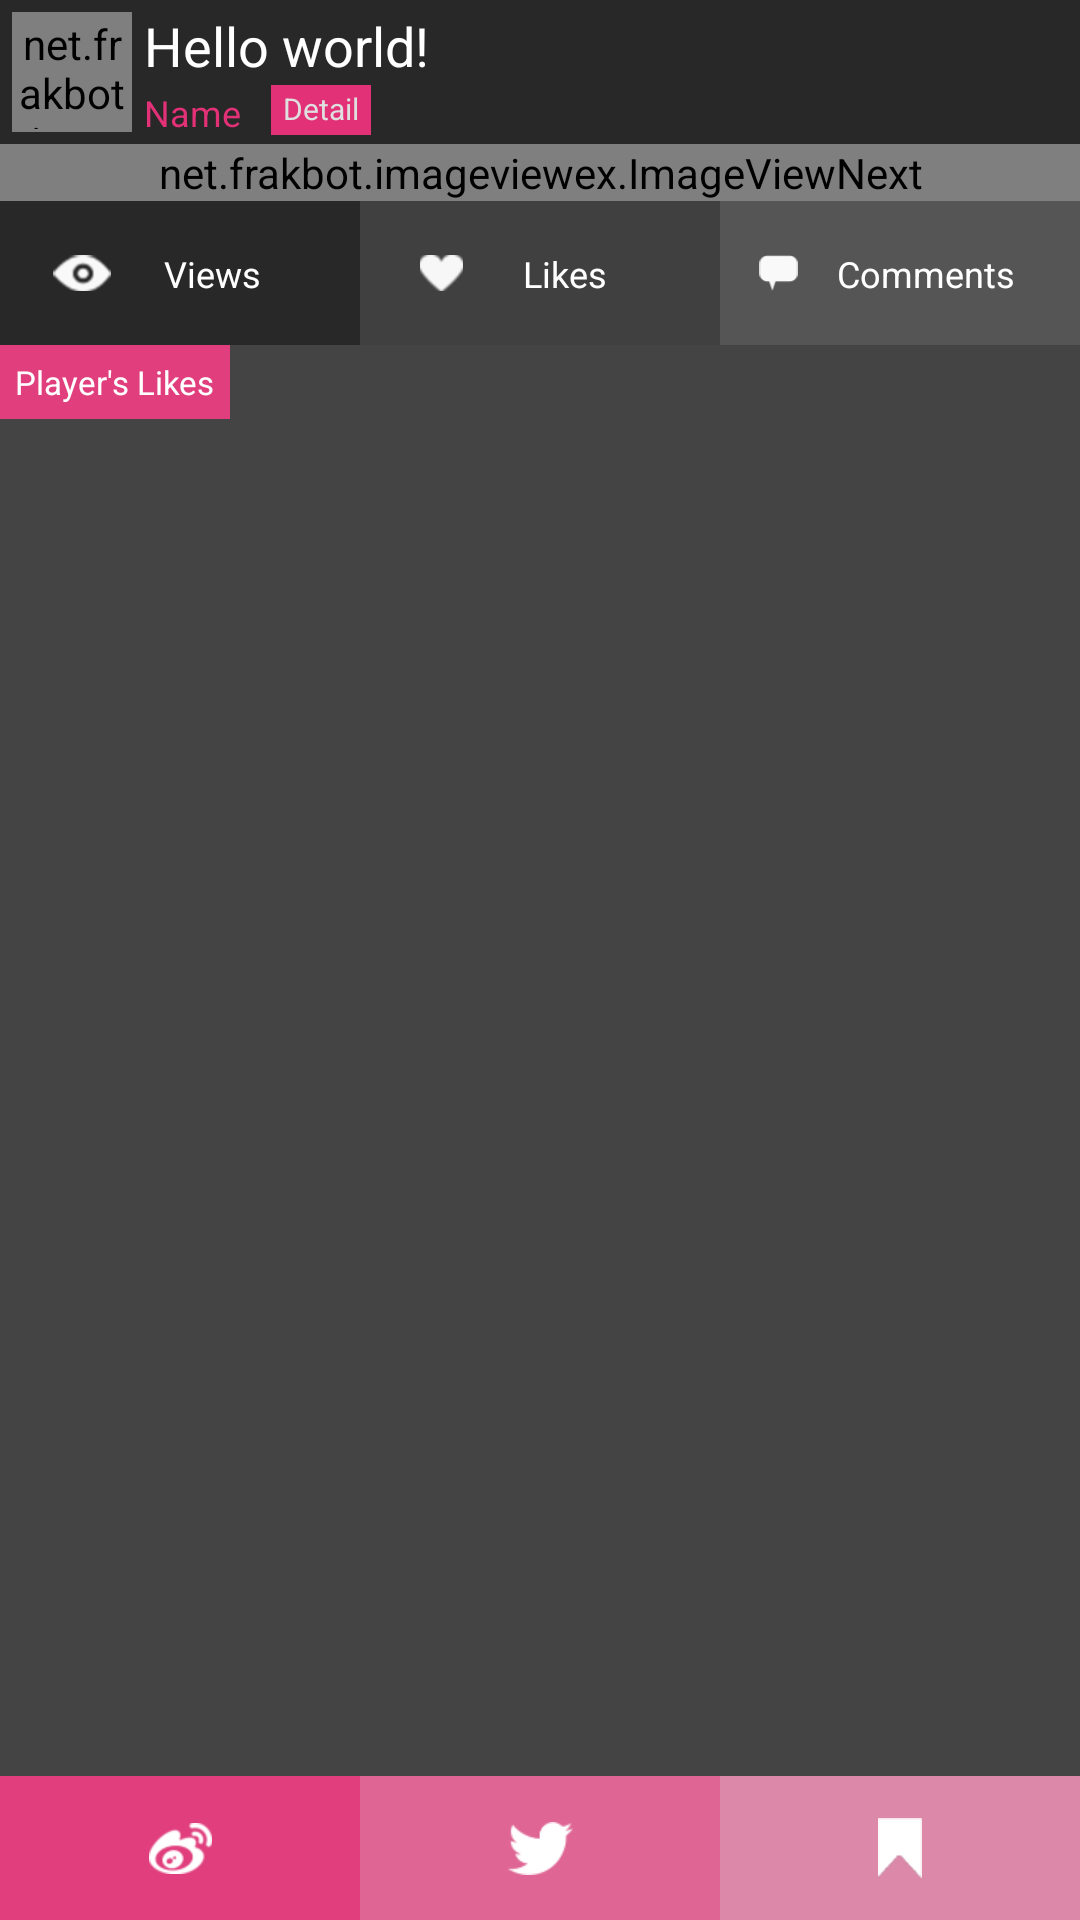

Point at icon controls on the screen. Image size 1080px×1920px, points as [x,y].
collect: [900,1848]
